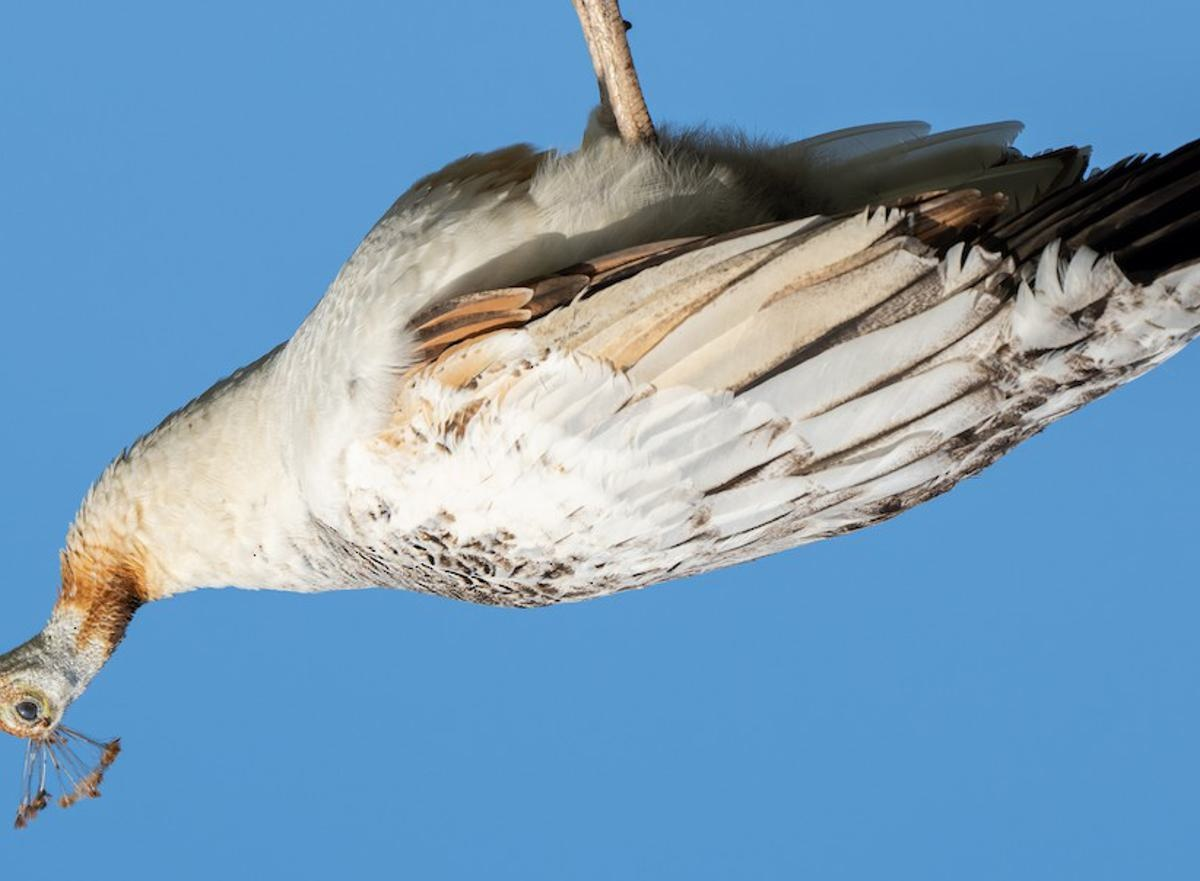peacock: (7, 55, 1187, 821)
